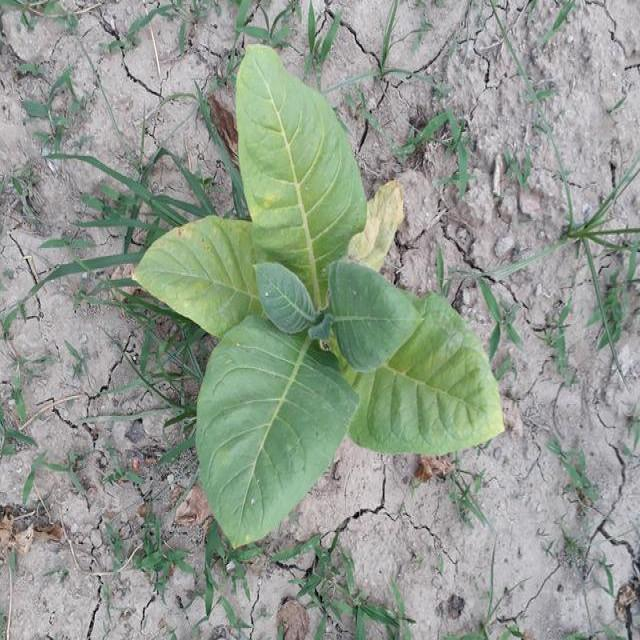crop: (138, 68, 511, 530)
